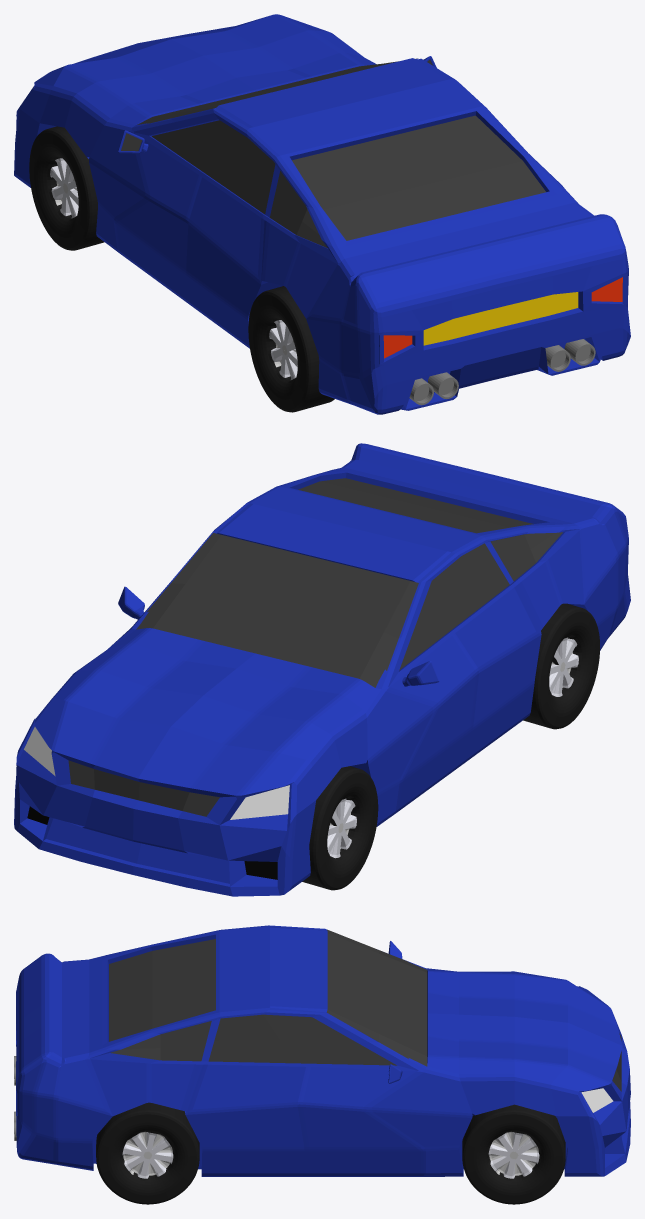
File: araba.fbx
3 views of the same model, one above another, from view 1: azimuth 30°, elevation 25°; view 2: azimuth 150°, elevation 25°; view 3: azimuth 270°, elevation 25° (orthographic). The views are drawn at different scales.
Parts seen in each view (by area): view 1: Cube, Circle.003, Circle.002, Cylinder, Cylinder.002; view 2: Cube, Circle.002, Circle.003; view 3: Cube, Circle, Circle.001.
Boxes of the visible parts, x1,y1,x2,y2 form: Cube: [14, 14, 630, 414]; Circle.003: [248, 286, 334, 412]; Circle.002: [29, 126, 104, 250]; Cylinder: [564, 339, 595, 365]; Cylinder.002: [428, 372, 458, 399]; Cube: [14, 443, 630, 896]; Circle.002: [302, 766, 378, 890]; Circle.003: [523, 603, 599, 729]; Cube: [16, 925, 630, 1176]; Circle: [96, 1102, 199, 1204]; Circle.001: [462, 1104, 565, 1204].
Bounding box in the file's own units: 222 × 142 × 444.
